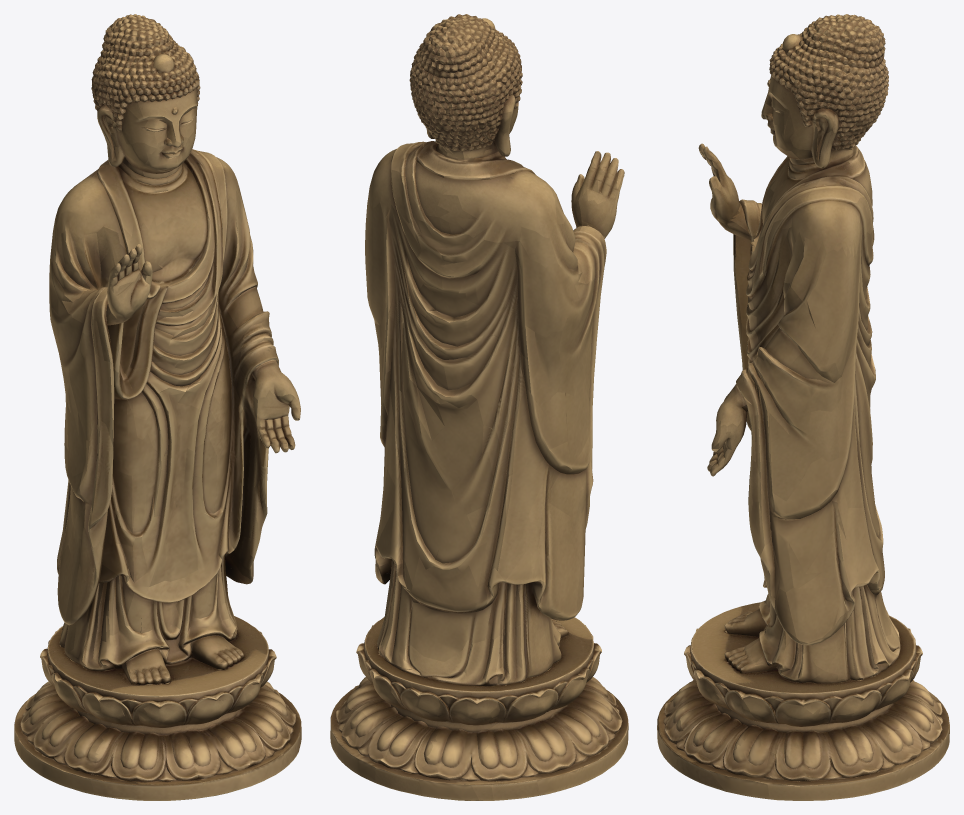
File: Meshy_AI_Korean_style_tall_sta_1116074329_texture.glb
3 views of the same model, side by side, from view 1: azimuth 30°, elevation 25°; view 2: azimuth 150°, elevation 25°; view 3: azimuth 270°, elevation 25° (orthographic). The views are drawn at different scales.
Visible parts, largest first — view 1: output_unwrapped; view 2: output_unwrapped; view 3: output_unwrapped.
Part boxes in pixels (x1,y1,x2,y2): output_unwrapped: (14,14,301,800); output_unwrapped: (330,14,628,800); output_unwrapped: (657,14,949,800).
Size of the model in its own units: 0.7014 by 1.9 by 0.699.
Materials: 1 (1 with a texture image).
